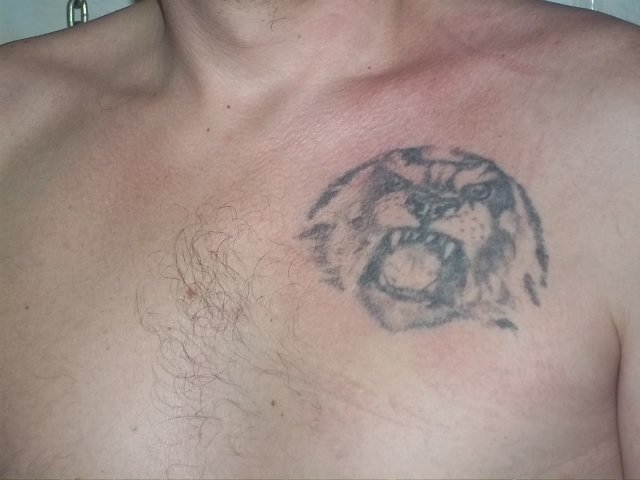tatu5_tigr: (286, 146, 553, 338)
